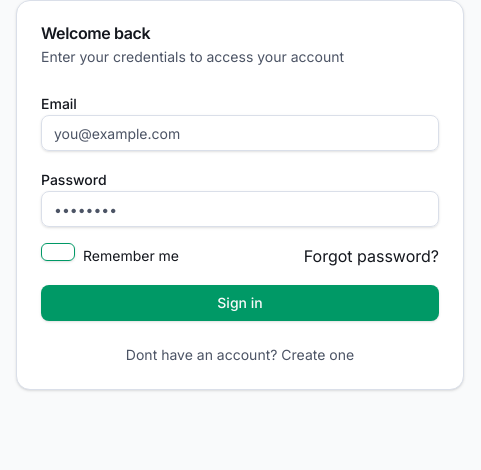
Test: LoginForm › error handling › displays error message on API exception
Type "test@example.com" into the field with placeholder "you@example.com".
click(240, 133); type("test@example.com")  # box [41,115,439,151]
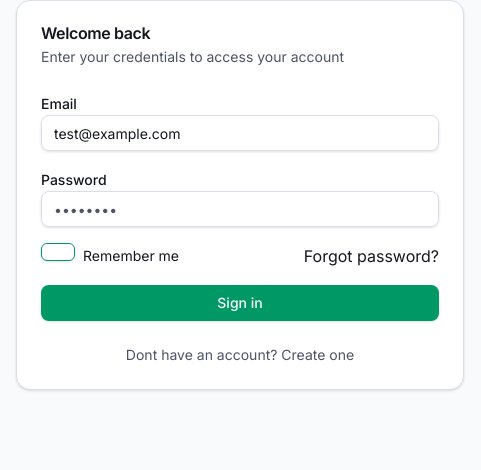
Type "password123" into the password field with placeholder "••••••••".
click(240, 209); type("password123")  # box [41,191,439,227]
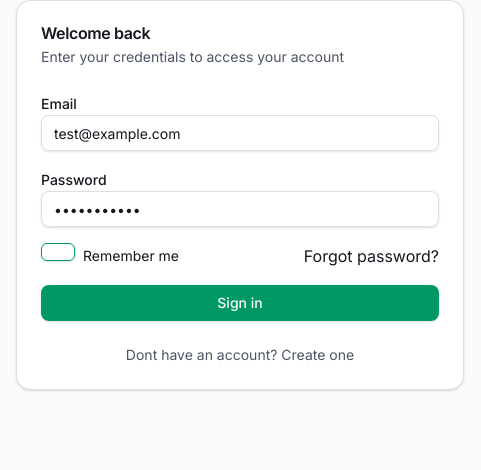
Click the button "Sign in".
click(240, 303)  # box [41,285,439,321]
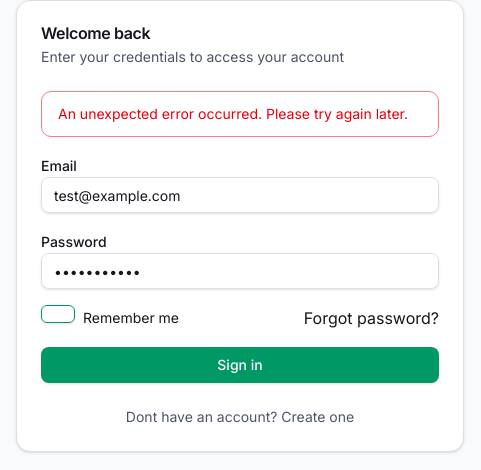
Expected: the text "An unexpected error occurred. Please try again later." is shown, [58,104,422,124]
